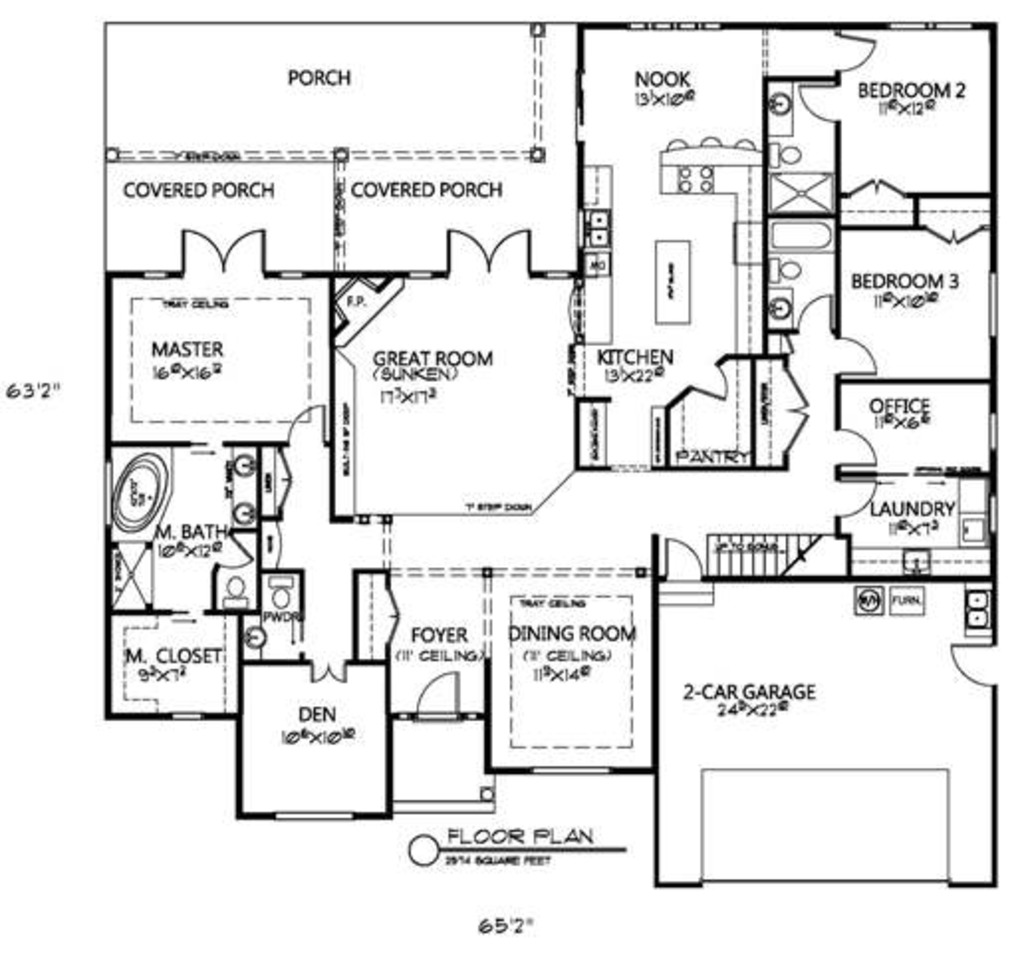door: (396, 657, 478, 723), (440, 228, 530, 284), (172, 225, 261, 273), (768, 362, 806, 457), (839, 166, 925, 207), (644, 535, 712, 585), (278, 400, 344, 448), (828, 422, 884, 473), (825, 23, 875, 79), (939, 640, 1000, 684), (919, 213, 1000, 244), (827, 473, 875, 521), (377, 581, 408, 653), (303, 654, 359, 693), (797, 73, 842, 121), (271, 448, 305, 506), (684, 372, 739, 406), (797, 294, 836, 337), (837, 335, 877, 375), (217, 532, 261, 568)
kitchen_bar: (658, 132, 762, 203)
large_sink: (759, 251, 809, 303), (214, 569, 258, 615), (252, 576, 303, 612), (769, 144, 809, 169)
sink: (902, 541, 937, 582)
small_sink: (218, 438, 264, 525), (755, 84, 808, 144), (236, 613, 275, 665), (765, 290, 790, 337)
stairs: (711, 526, 859, 597)
tub: (767, 219, 834, 251)
twin_sink: (577, 197, 611, 256), (961, 582, 997, 634)
window: (872, 6, 974, 41), (978, 482, 1011, 546), (978, 260, 999, 338), (978, 410, 1003, 456)
